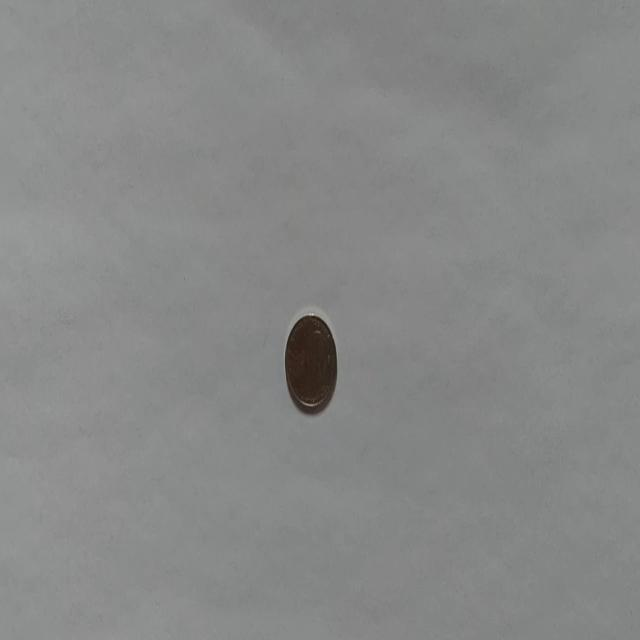seribu rupiah koin: (283, 308, 338, 414)
